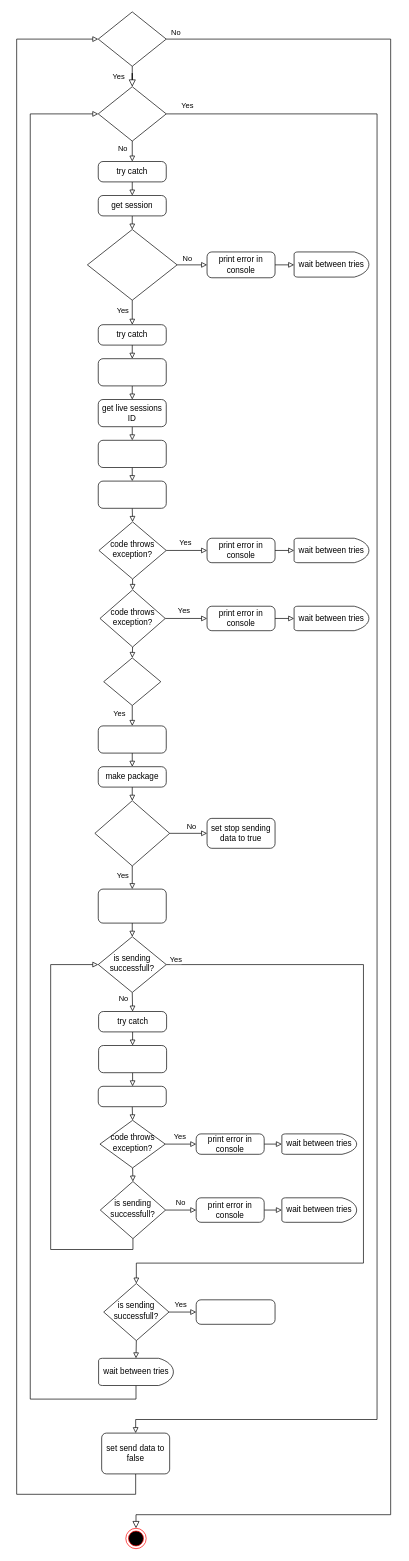
The diagram is 409 pixels wide and 1561 high, and some of its shapes have lost their labels. The centre of each missing label's shape, as x and y in pixels:
"can send data?" goes at (x=132, y=681).
"convert package to json" goes at (x=132, y=1059).
"convert response to json" goes at (x=132, y=372).
"does the package have any sensor values?" goes at (x=132, y=833).
"get live sessions name" goes at (x=132, y=454).
"is the response HTTP status code ok?" goes at (x=132, y=264).
"prepare sensor 1 and 2 values" goes at (x=132, y=739).
"print sent package to console" goes at (x=235, y=1311).
"send data?" goes at (x=132, y=38).
"send package" goes at (x=132, y=1096).
"set can send data to true" goes at (x=132, y=494).
"set sending successfull to false" goes at (x=132, y=905).
"stop sending data?" goes at (x=132, y=113).
